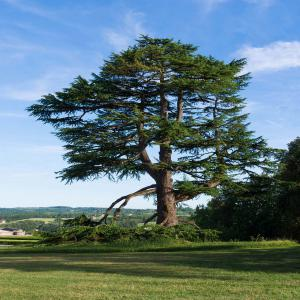Tree: (26, 35, 270, 227)
